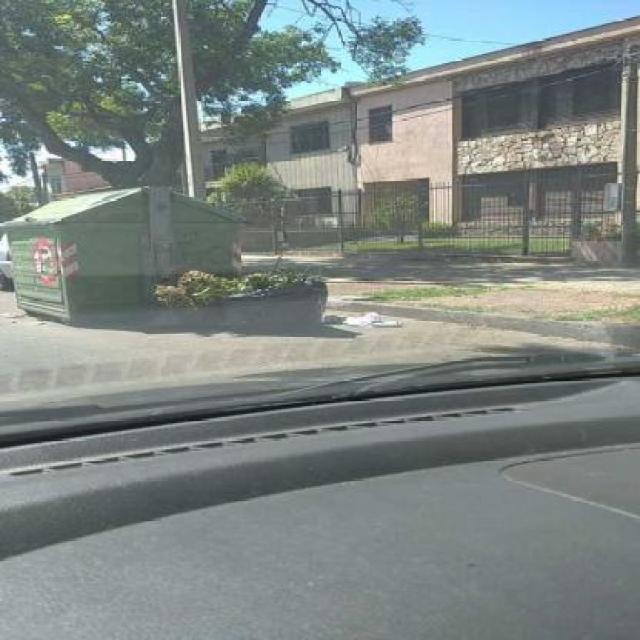garbage: (153, 258, 440, 336)
